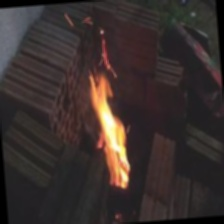fire: (72, 32, 146, 207)
